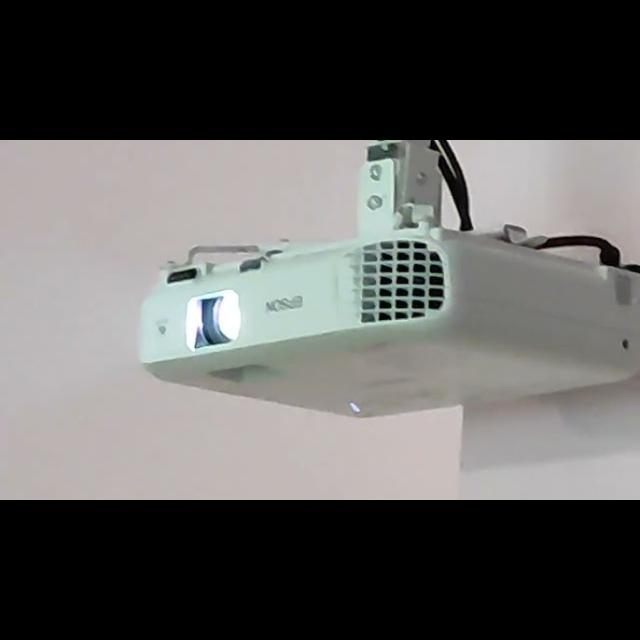Projector: (140, 227, 640, 418)
